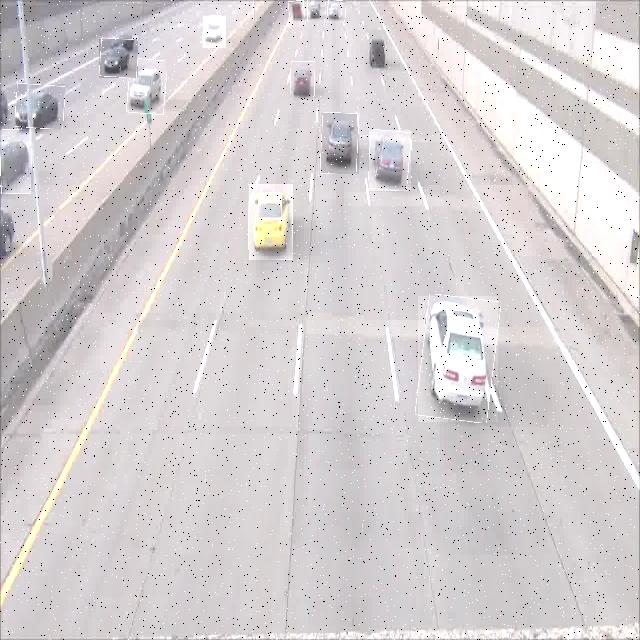Car: (418, 296, 498, 422), (249, 184, 293, 260), (369, 130, 412, 191), (321, 113, 359, 174), (16, 84, 65, 129), (127, 59, 166, 115), (0, 130, 31, 194), (99, 39, 138, 78), (291, 61, 315, 102), (366, 30, 388, 74), (203, 16, 226, 48), (288, 0, 304, 27), (327, 0, 346, 22), (307, 0, 322, 22)
